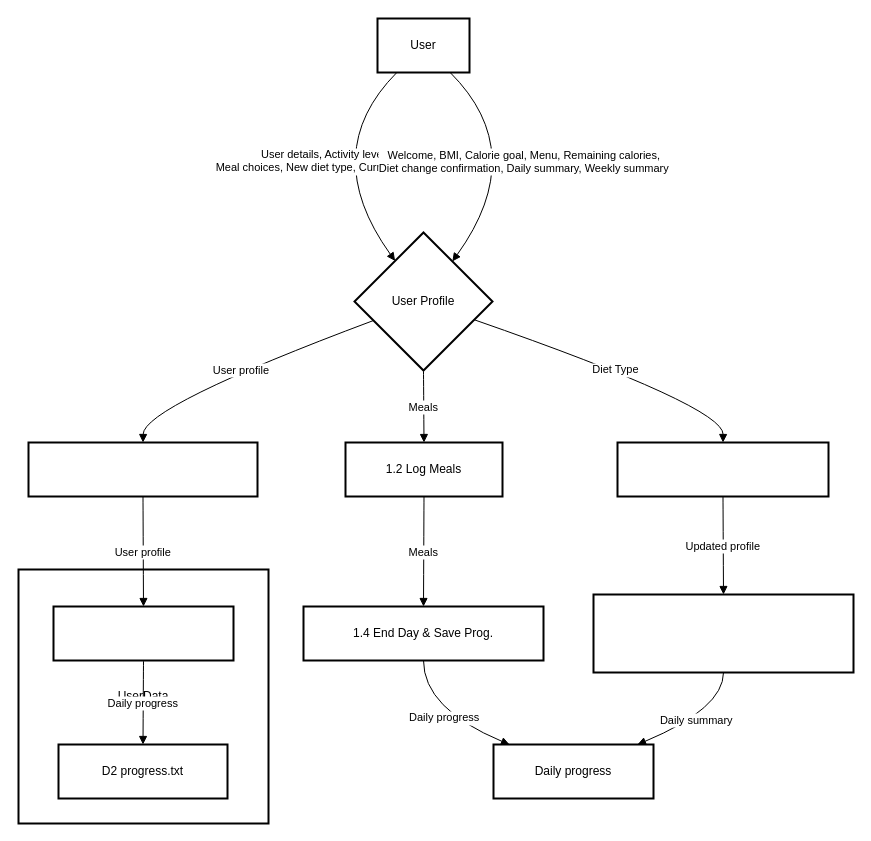
The diagram is 871 pixels wide and 841 high, and some of its shapes have lost their labels. The centre of each missing label's shape, as x and y in pixels:
1.1 Manage User Profile: pixel 142 469
1.3 Change Diet Type: pixel 722 469
1.5 Display Weekly Summary: pixel 723 633
D1 user_data.txt: pixel 143 633
